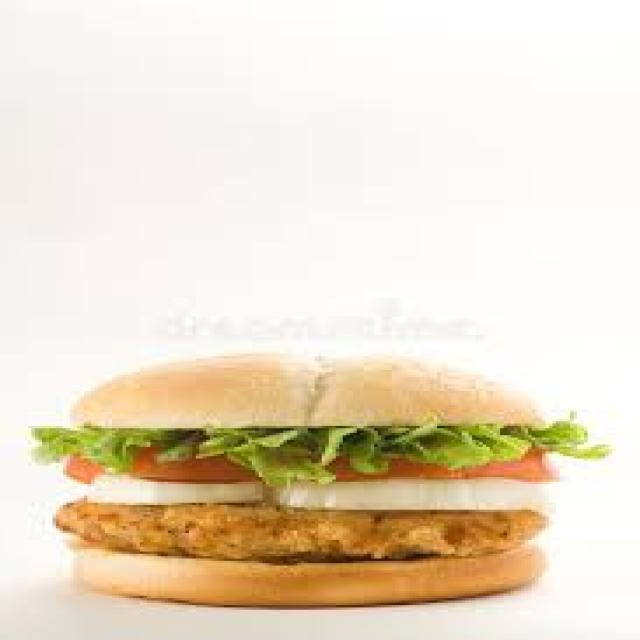햄버거: (35, 349, 609, 612)
